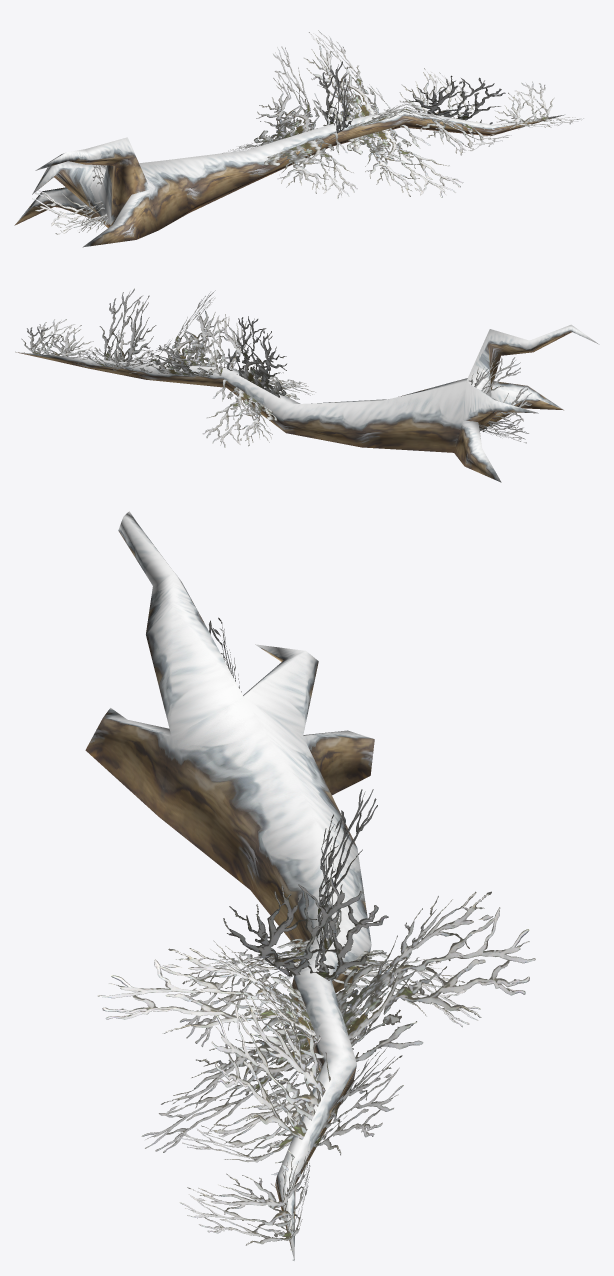
File: winterspringfallentree01.obj
3 views of the same model, one above another, from view 1: azimuth 30°, elevation 25°; view 2: azimuth 150°, elevation 25°; view 3: azimuth 270°, elevation 25° (orthographic). The views are drawn at different scales.
Parts seen in each view (by area): view 1: Geoset0, Geoset1; view 2: Geoset0, Geoset1; view 3: Geoset0, Geoset1.
Boxes of the visible parts, x1,y1,x2,y2 form: Geoset0: (14, 108, 563, 247); Geoset1: (32, 30, 583, 234); Geoset0: (15, 324, 599, 482); Geoset1: (15, 288, 531, 447); Geoset0: (85, 511, 374, 1259); Geoset1: (98, 617, 535, 1260).
Size of the model in its own units: 52.38 by 12.8 by 21.47.
Materials: 2 (2 with a texture image).
